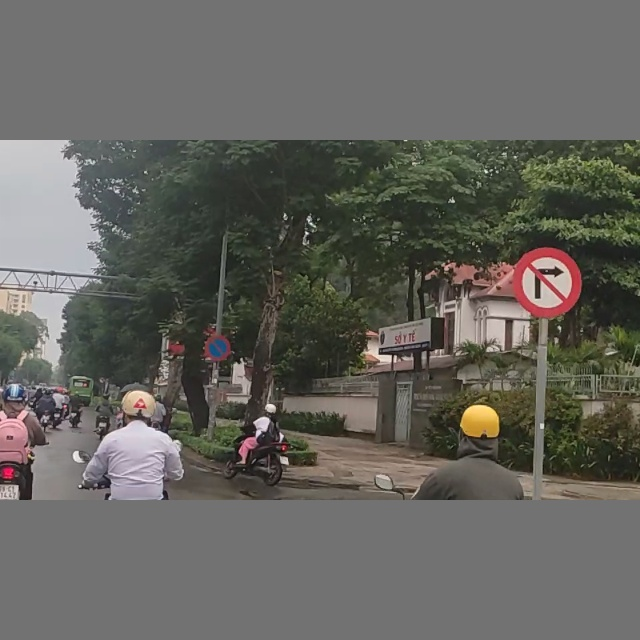P.123b: (512, 245, 583, 319)
P.131a: (203, 334, 231, 361)
